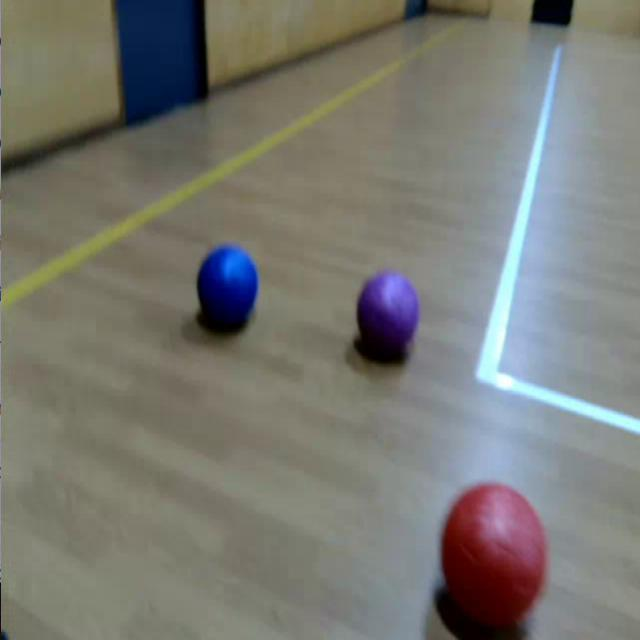blue_ball: (196, 243, 258, 331)
purple_ball: (355, 270, 419, 354)
red_ball: (440, 485, 547, 628)
